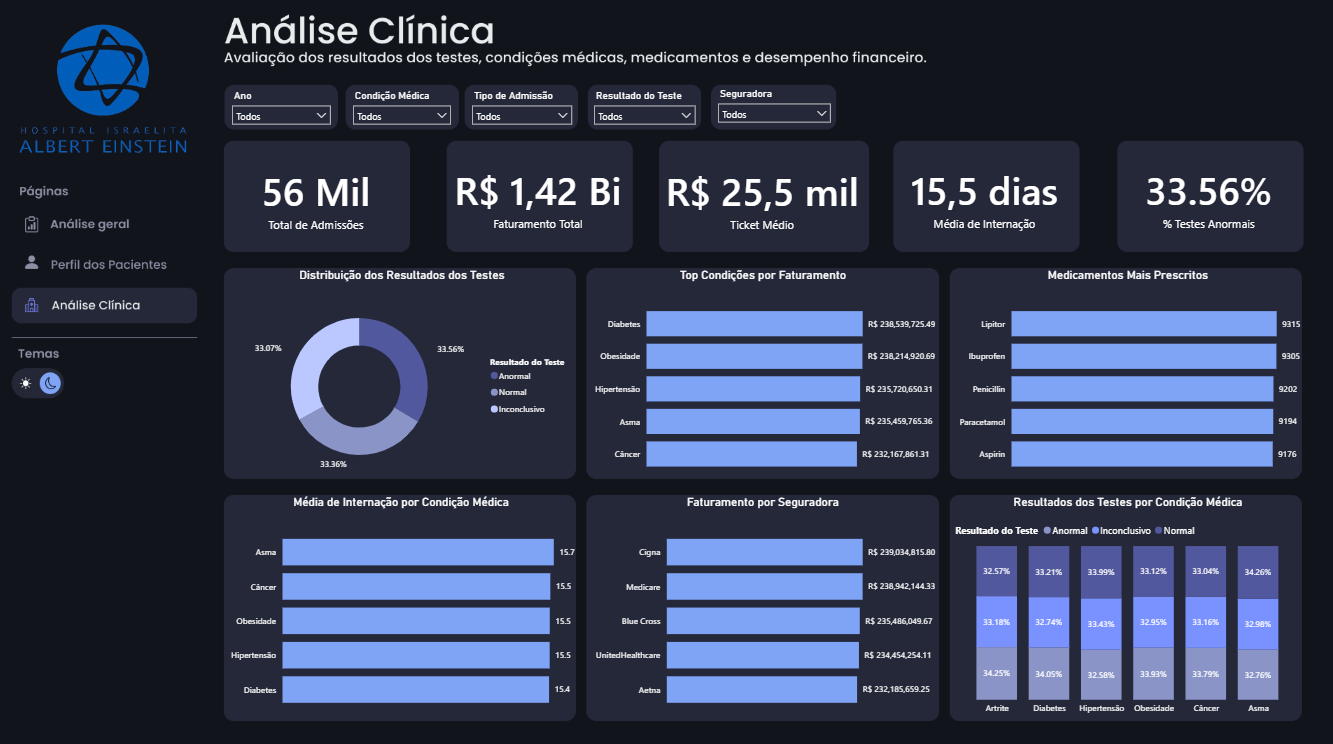

The dashboard page shown, as its layout file describes it:
{"tool":"powerbi","page":{"name":"Análise Clínica e Financeira","canvas":[1920,1080],"ordinal":2},"visuals":[{"type":"slicer","fields":{"Values":["healthcare_dataset.Insurance Provider"]},"box":[1020,127.5,181.2,62.5],"z":0},{"type":"slicer","fields":{"Values":["healthcare_dataset.Admission Type"]},"box":[669.1,130,162.7,62.7],"z":1000},{"type":"slicer","fields":{"Values":["healthcare_dataset.Medical Condition"]},"box":[499.1,130,160,62.7],"z":2000},{"type":"slicer","fields":{"Values":["healthcare_dataset.Test Results"]},"box":[842.7,130,164.5,62.7],"z":3000},{"type":"slicer","fields":{"Values":["healthcare_dataset.Admission Year"]},"box":[325.5,130,160.9,62.7],"z":4000},{"type":"cardVisual","fields":{"Data":["Medidas.Total de Admissões"]},"box":[322.6,210.7,266.3,158.1],"z":5000},{"type":"cardVisual","fields":{"Data":["Medidas.Ticket Médio Texto"]},"box":[915.7,211.4,355.7,158.6],"z":7000},{"type":"cardVisual","fields":{"Data":["Medidas.Média de Internação"]},"box":[1275.7,210,270,158.6],"z":8000},{"type":"cardVisual","fields":{"Data":["Medidas.% Testes Anormais"]},"box":[1595.7,210,271.4,158.6],"z":9000},{"type":"donutChart","title":"Distribuição dos Resultados dos Testes","fields":{"Category":["healthcare_dataset.Test Results"],"Y":["Medidas.Total de Admissões"]},"box":[325.7,390,505.7,308.6],"z":10000},{"type":"clusteredBarChart","title":"Top Condições por Faturamento","fields":{"Category":["healthcare_dataset.Medical Condition"],"Y":["Medidas.Faturamento Total"]},"box":[842.9,390,502.9,308.6],"z":11000},{"type":"clusteredBarChart","title":"Medicamentos Mais Prescritos","fields":{"Category":["healthcare_dataset.Medication"],"Y":["Medidas.Total de Admissões"]},"box":[1364.3,390,502.9,308.6],"z":12000},{"type":"clusteredBarChart","title":"Média de Internação por Condição Médica","fields":{"Category":["healthcare_dataset.Medical Condition"],"Y":["Medidas.Média de Internação/Dias"]},"box":[322.9,714.3,508.6,322.9],"z":13000},{"type":"clusteredBarChart","title":"Faturamento por Seguradora","fields":{"Category":["healthcare_dataset.Insurance Provider"],"Y":["Medidas.Faturamento Total"]},"box":[842.9,714.3,502.9,322.9],"z":14000},{"type":"hundredPercentStackedColumnChart","title":"Resultados dos Testes por Condição Médica","fields":{"Category":["healthcare_dataset.Medical Condition"],"Series":["healthcare_dataset.Test Results"],"Y":["Medidas.Total de Admissões"]},"box":[1364.3,714.3,502.9,322.9],"z":15000},{"type":"cardVisual","fields":{"Data":["Medidas.Faturamento Total Texto"]},"box":[621.1,210.1,303.3,158.3],"z":15001},{"type":"pageNavigator","box":[53.3,368.9,213.3,33.3],"z":15002},{"type":"pageNavigator","box":[53.3,310,213.3,33.3],"z":15003}]}

Visuals, with their boxes on the page's 1920x1080 design canvas (x1, y1, x2, y2). These are canvas units, not pixel positions in the 1333x744 screenshot, which may show the page scaled, cropped or inside an application window:
slicer - healthcare_dataset.Insurance Provider: locate(1020, 128, 1201, 190)
slicer - healthcare_dataset.Admission Type: locate(669, 130, 832, 193)
slicer - healthcare_dataset.Medical Condition: locate(499, 130, 659, 193)
slicer - healthcare_dataset.Test Results: locate(843, 130, 1007, 193)
slicer - healthcare_dataset.Admission Year: locate(326, 130, 486, 193)
cardVisual - Medidas.Total de Admissões: locate(323, 211, 589, 369)
cardVisual - Medidas.Ticket Médio Texto: locate(916, 211, 1271, 370)
cardVisual - Medidas.Média de Internação: locate(1276, 210, 1546, 369)
cardVisual - Medidas.% Testes Anormais: locate(1596, 210, 1867, 369)
"Distribuição dos Resultados dos Testes" donutChart: locate(326, 390, 831, 699)
"Top Condições por Faturamento" clusteredBarChart: locate(843, 390, 1346, 699)
"Medicamentos Mais Prescritos" clusteredBarChart: locate(1364, 390, 1867, 699)
"Média de Internação por Condição Médica" clusteredBarChart: locate(323, 714, 832, 1037)
"Faturamento por Seguradora" clusteredBarChart: locate(843, 714, 1346, 1037)
"Resultados dos Testes por Condição Médica" hundredPercentStackedColumnChart: locate(1364, 714, 1867, 1037)
cardVisual - Medidas.Faturamento Total Texto: locate(621, 210, 924, 368)
pageNavigator: locate(53, 369, 267, 402)
pageNavigator: locate(53, 310, 267, 343)
